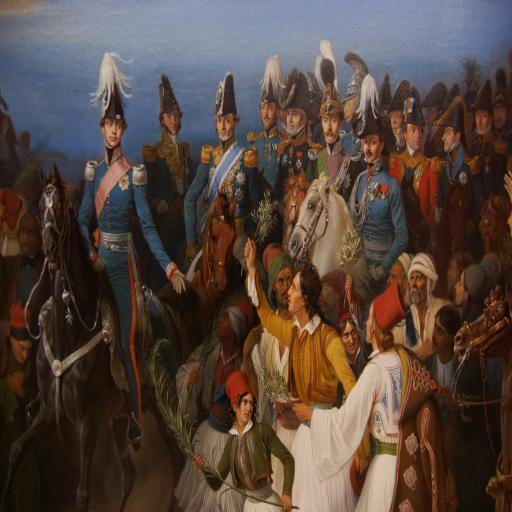horse: (0, 160, 207, 512), (454, 290, 512, 512), (290, 169, 378, 307), (184, 181, 238, 324), (434, 178, 471, 298), (246, 165, 280, 249), (398, 173, 432, 255), (282, 166, 312, 257), (180, 186, 206, 273), (478, 192, 512, 257)
